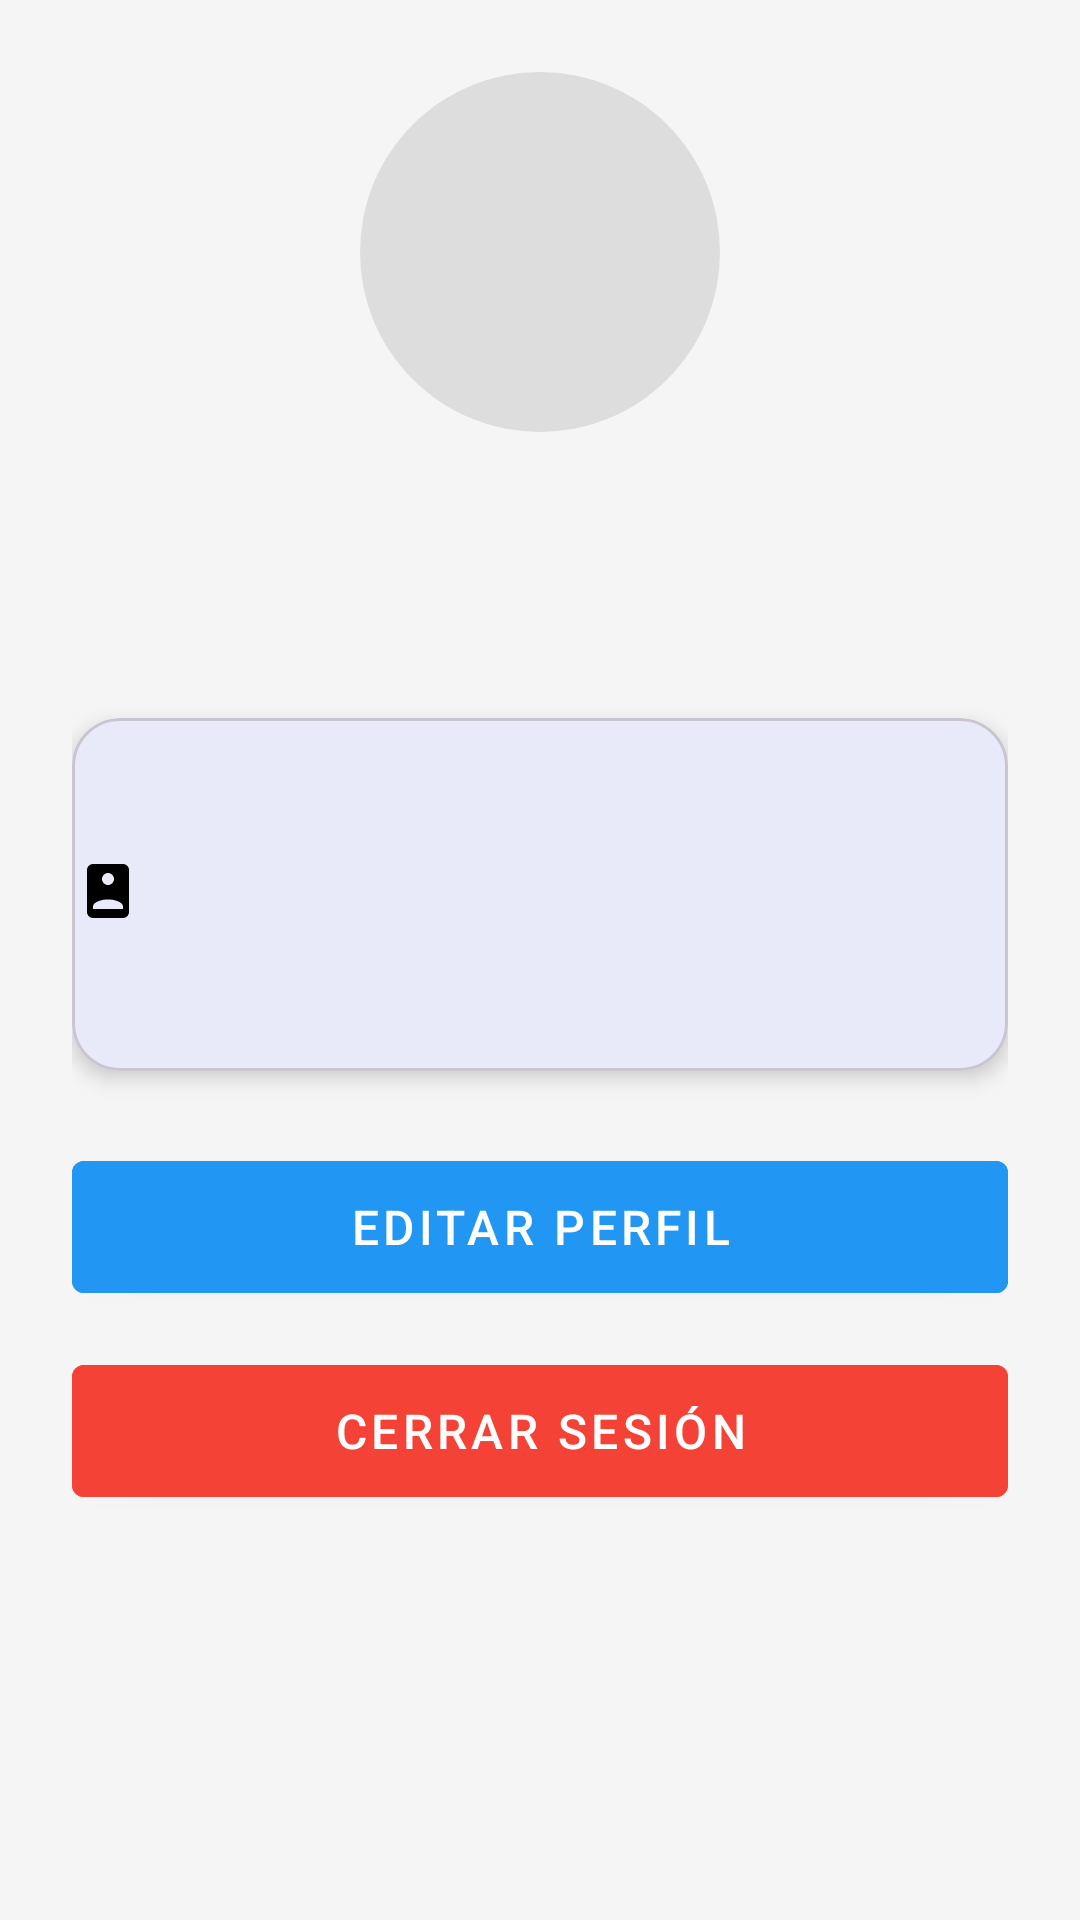

Point at icon controls on the screen. Image size 1080px x 1920px, points as [x,y].
badge: [108,891]
